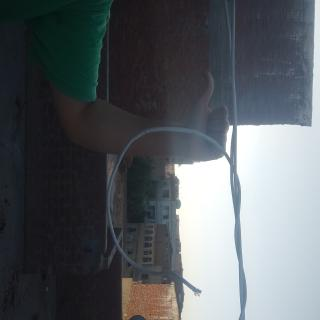DAD: (53, 115, 128, 183)
